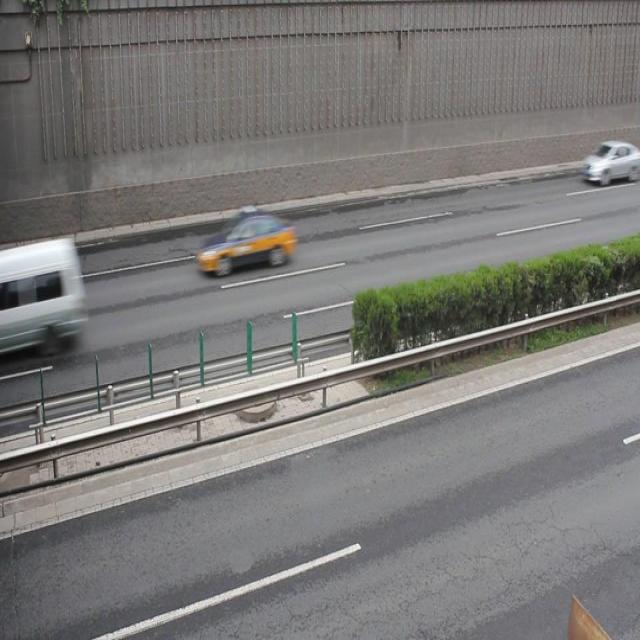car: (194, 208, 295, 274), (578, 139, 640, 185)
truck: (1, 240, 83, 342)
